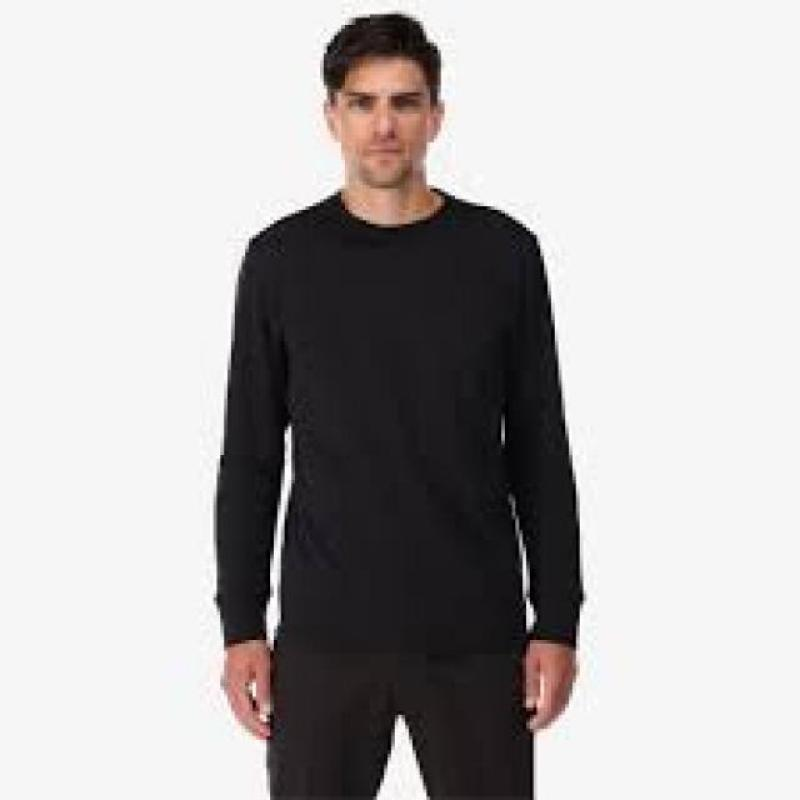long sleeve shirt: (209, 186, 588, 650)
trousers: (263, 626, 542, 800)
